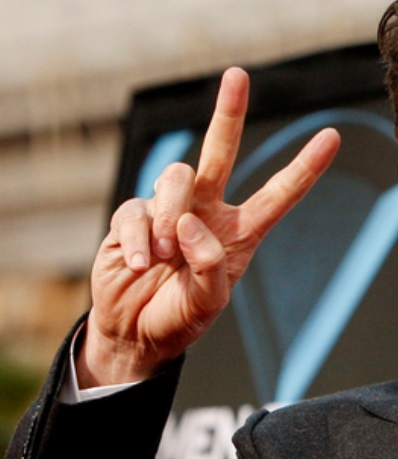peace: (87, 64, 343, 354)
